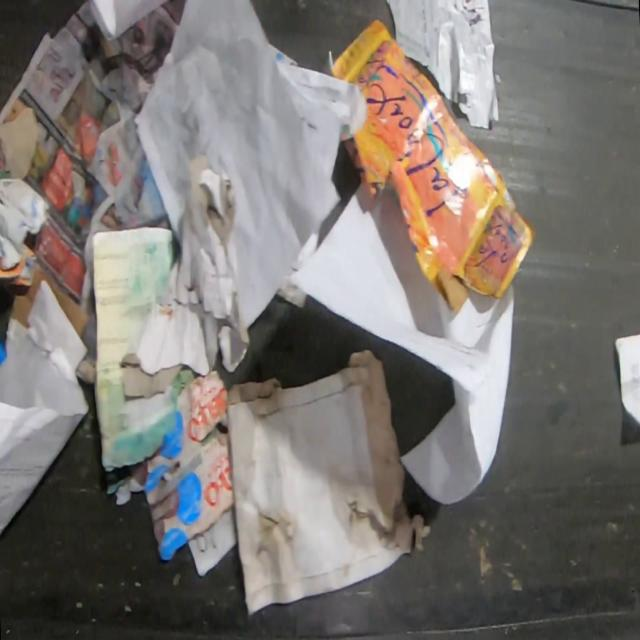cardboard: (320, 15, 536, 314), (225, 348, 432, 615), (118, 150, 252, 401), (114, 367, 233, 563), (7, 262, 91, 338), (0, 240, 38, 288)
